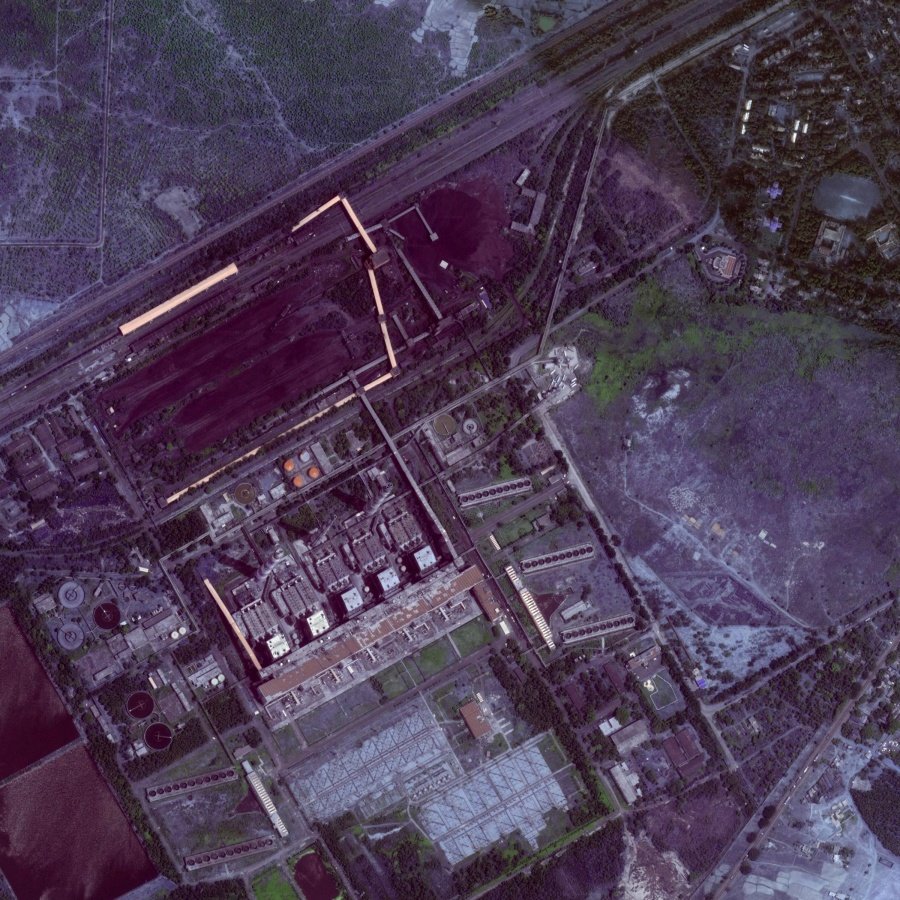PowerPlant: (84, 145, 508, 522)
